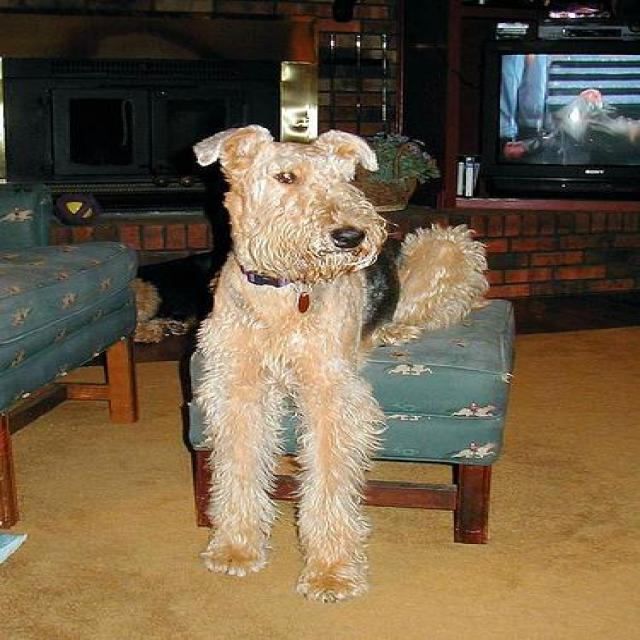airedale: (191, 123, 487, 599)
